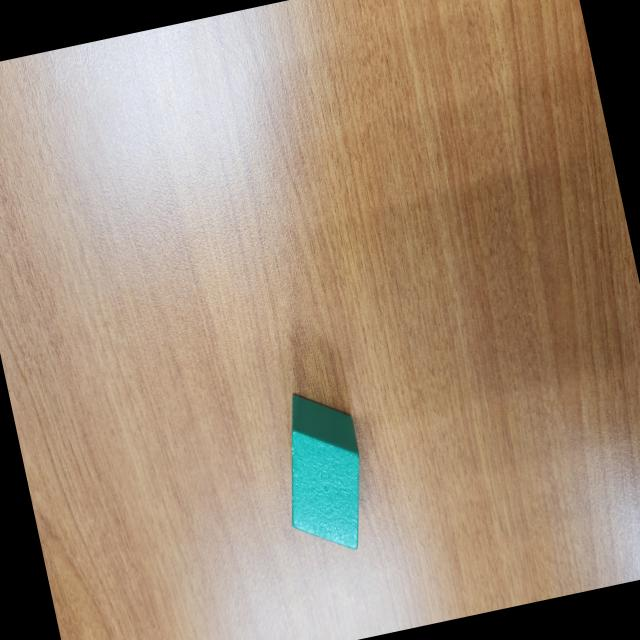green: (264, 382, 380, 562)
